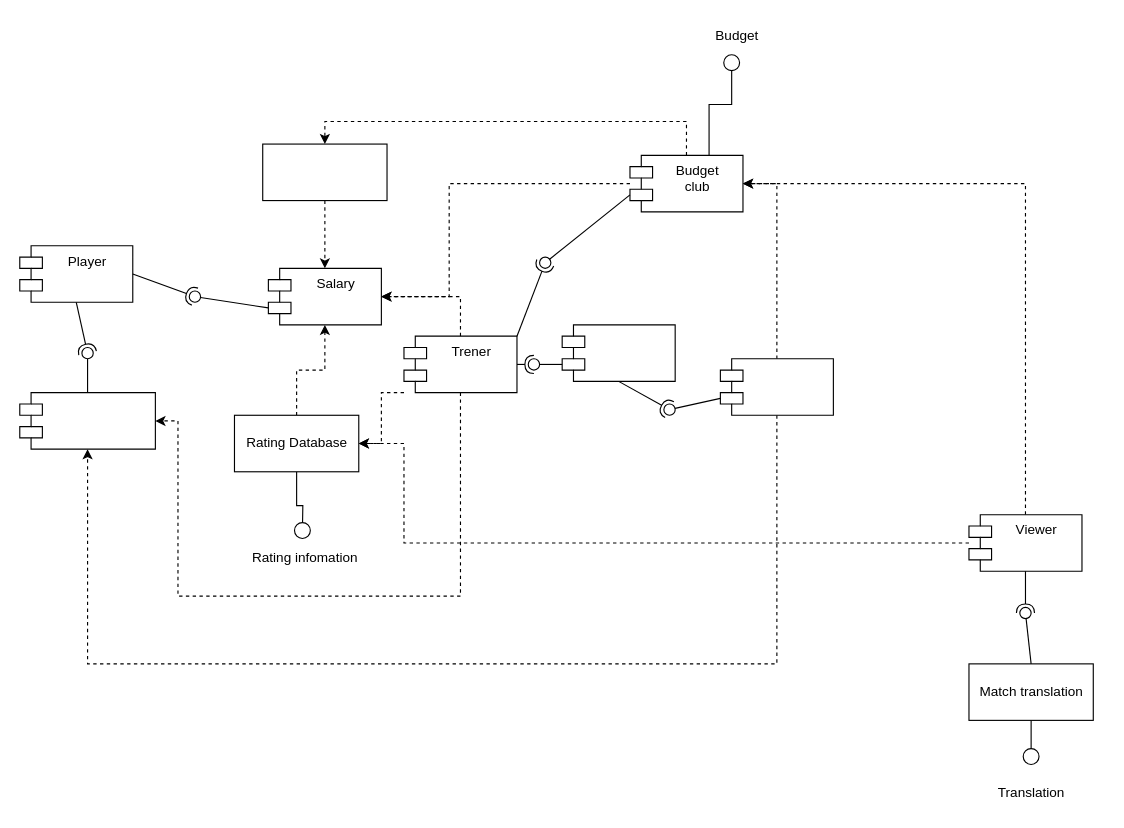
Image size: 1124x828. Some labels were removed from this diagram. Each missing label, with the centre of its shape:
Calendar matches: (x=618, y=352)
Salary database: (x=324, y=172)
Training schedule: (x=87, y=420)
UEFA: (x=776, y=386)
